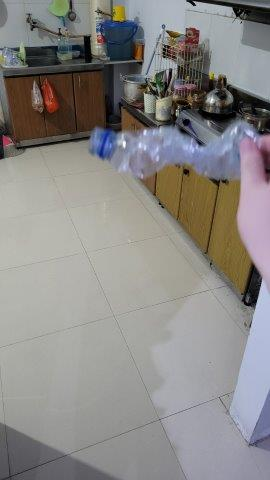botolplastik: (86, 120, 264, 177)
